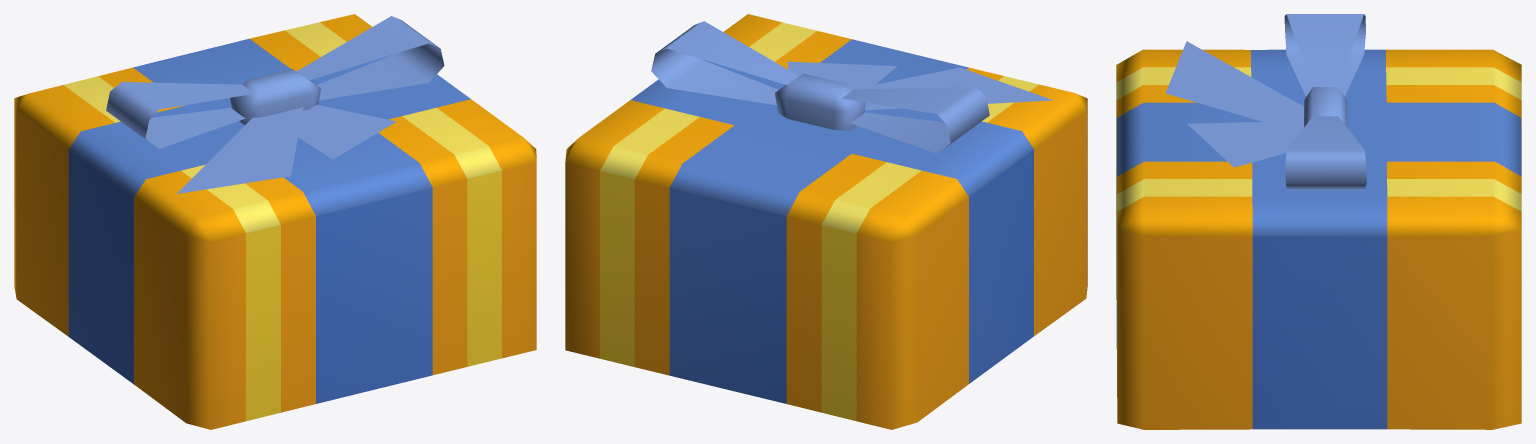
Rendered from Gift_Christmas5.fbx.
3 views of the same model, side by side, from view 1: azimuth 30°, elevation 25°; view 2: azimuth 150°, elevation 25°; view 3: azimuth 270°, elevation 25° (orthographic). The views are drawn at different scales.
Visible parts, largest first — view 1: Gift_Christmas5; view 2: Gift_Christmas5; view 3: Gift_Christmas5.
Part boxes in pixels (x1,y1,x2,y2): Gift_Christmas5: (14,14,536,429); Gift_Christmas5: (565,14,1087,429); Gift_Christmas5: (1116,14,1521,429).
Size of the model in its own units: 46.72 by 32.13 by 45.28.
